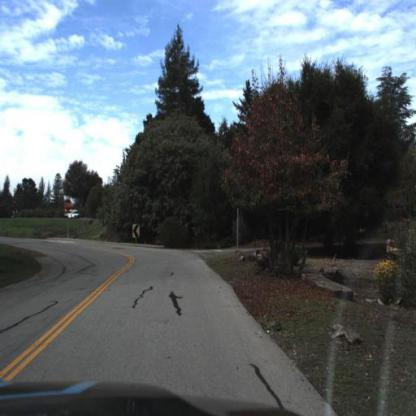car: (65, 208, 83, 222)
